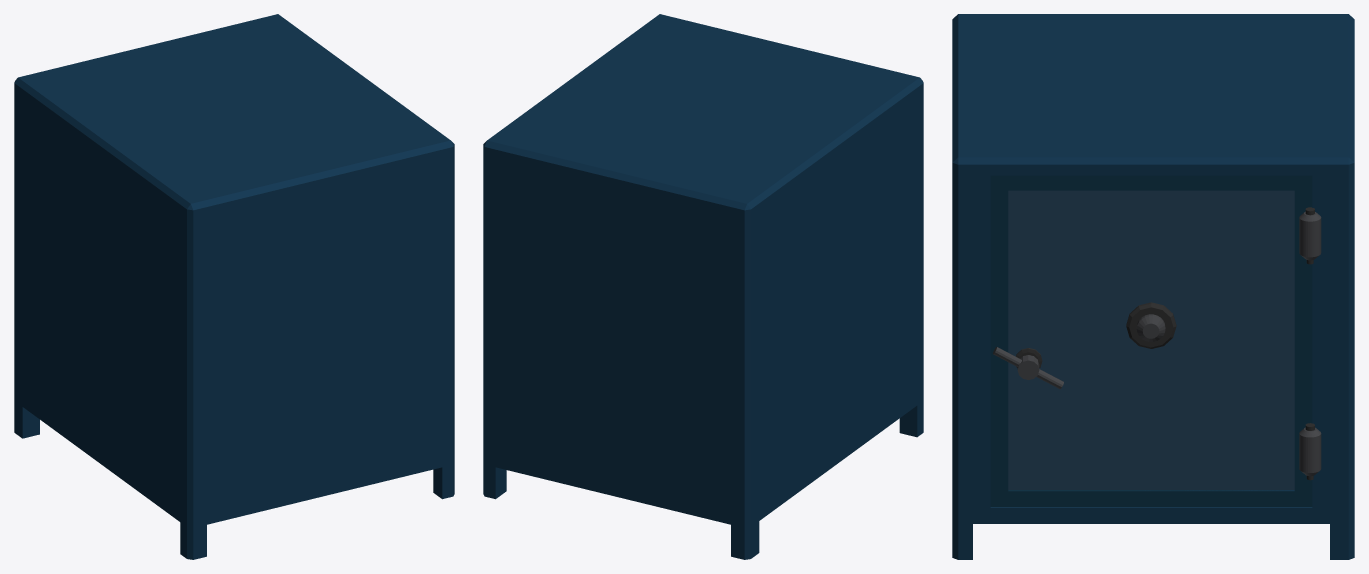
Rendered from SM_Vault.fbx.
3 renders of one model, left to right at view 1: azimuth 30°, elevation 25°; view 2: azimuth 150°, elevation 25°; view 3: azimuth 270°, elevation 25°, orthographic. The views are drawn at different scales.
Parts seen in each view (by area): view 1: SM_Cofre; view 2: SM_Cofre; view 3: SM_Porta, SM_Cofre, SM_Macaneta.
Boxes of the visible parts, <box> form: SM_Cofre: <box>14,14,454,559</box>; SM_Cofre: <box>483,14,923,559</box>; SM_Porta: <box>990,175,1321,506</box>; SM_Cofre: <box>952,14,1354,559</box>; SM_Macaneta: <box>993,347,1063,388</box>.
Size of the model in its own units: 116 by 140 by 127.
